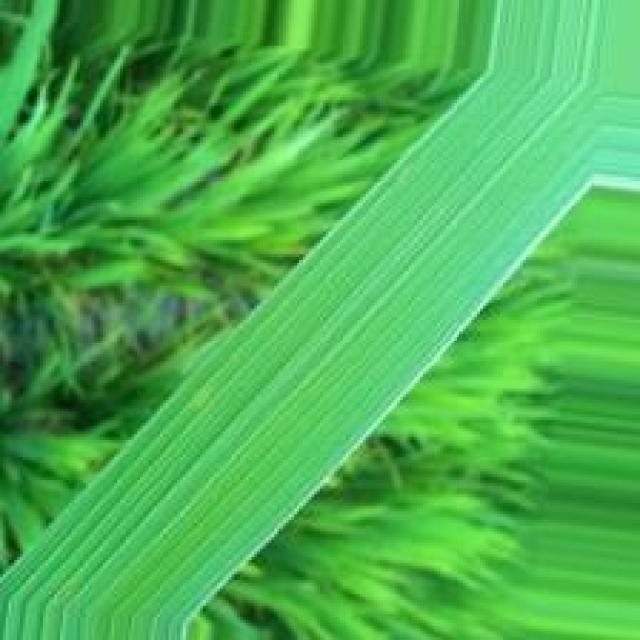HealthyLeaf: (3, 1, 640, 640)
